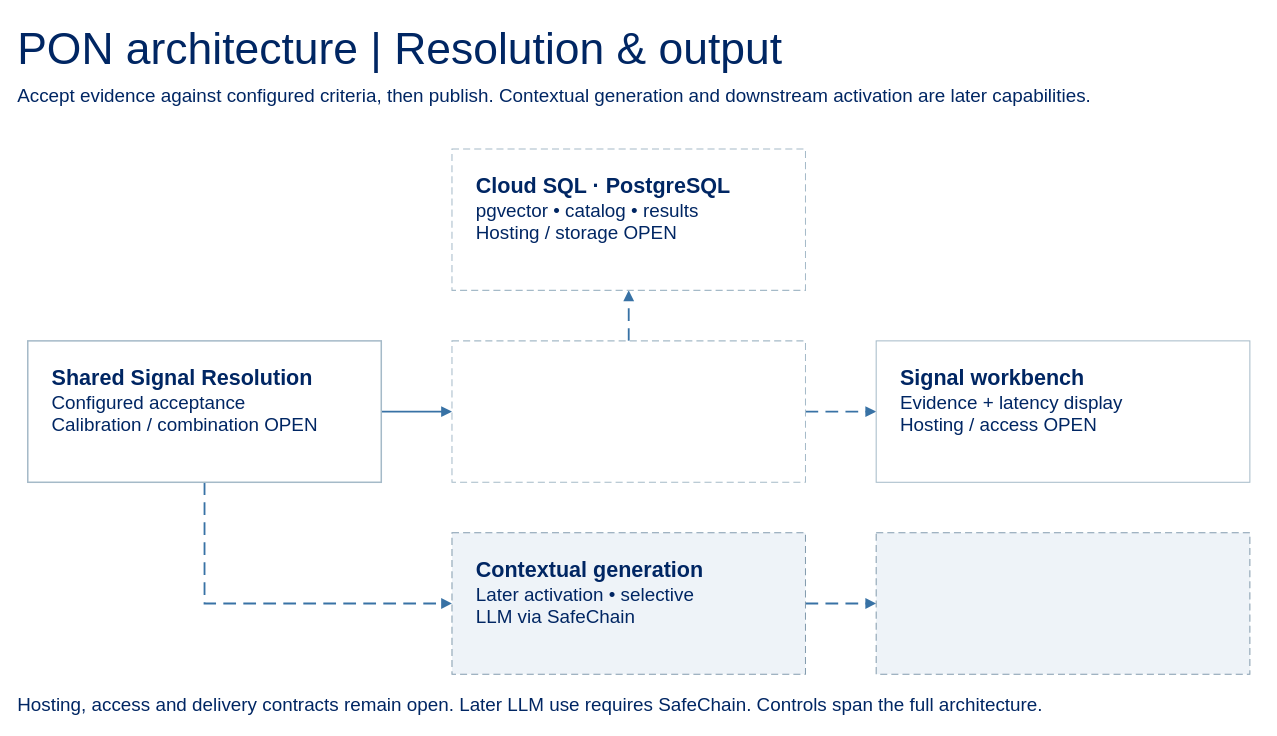
Some shapes in this 1277 by 736 pixel diagram are drawn without their labels. Each missing label, with the box of its shape:
Downstream consumers LATER integration Delivery contract OPEN: (875, 532, 1250, 674)
Signal publication API Accepted signal events Delivery + persistence: (451, 340, 805, 482)
